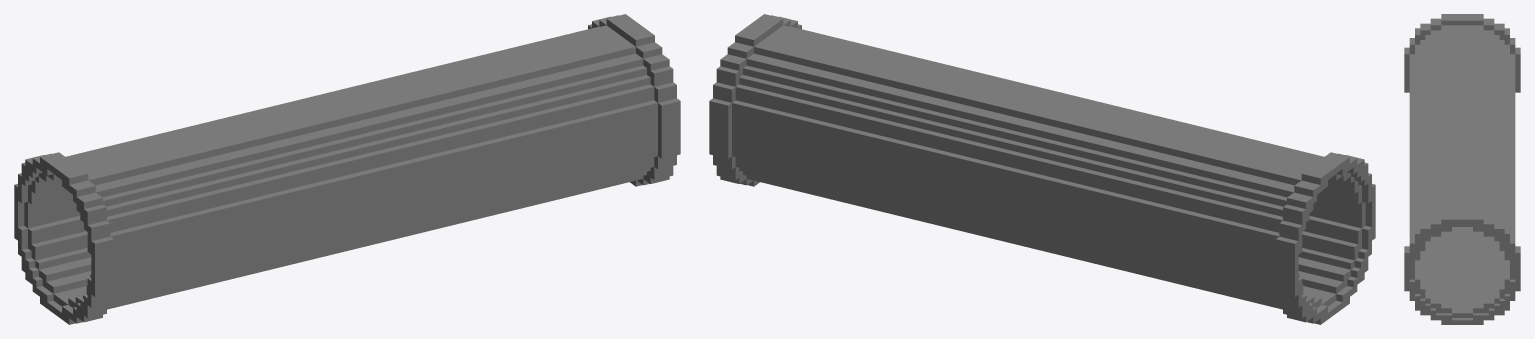
Rendered from ceramic_pipe.fbx.
3 views of the same model, side by side, from view 1: azimuth 30°, elevation 25°; view 2: azimuth 150°, elevation 25°; view 3: azimuth 270°, elevation 25° (orthographic). The views are drawn at different scales.
Visible parts, largest first — view 1: ceramic_pipe; view 2: ceramic_pipe; view 3: ceramic_pipe.
Part boxes in pixels (bbox=[...]): ceramic_pipe: bbox=[14, 14, 680, 324]; ceramic_pipe: bbox=[709, 14, 1375, 324]; ceramic_pipe: bbox=[1404, 14, 1520, 324].
Size of the model in its own units: 2.09 by 0.4999 by 0.4999.
Materials: 1 (1 with a texture image).
